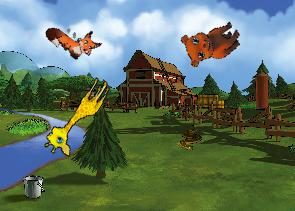bear: (175, 8, 246, 74)
fox: (42, 9, 104, 68)
giraffe: (40, 69, 113, 161)
